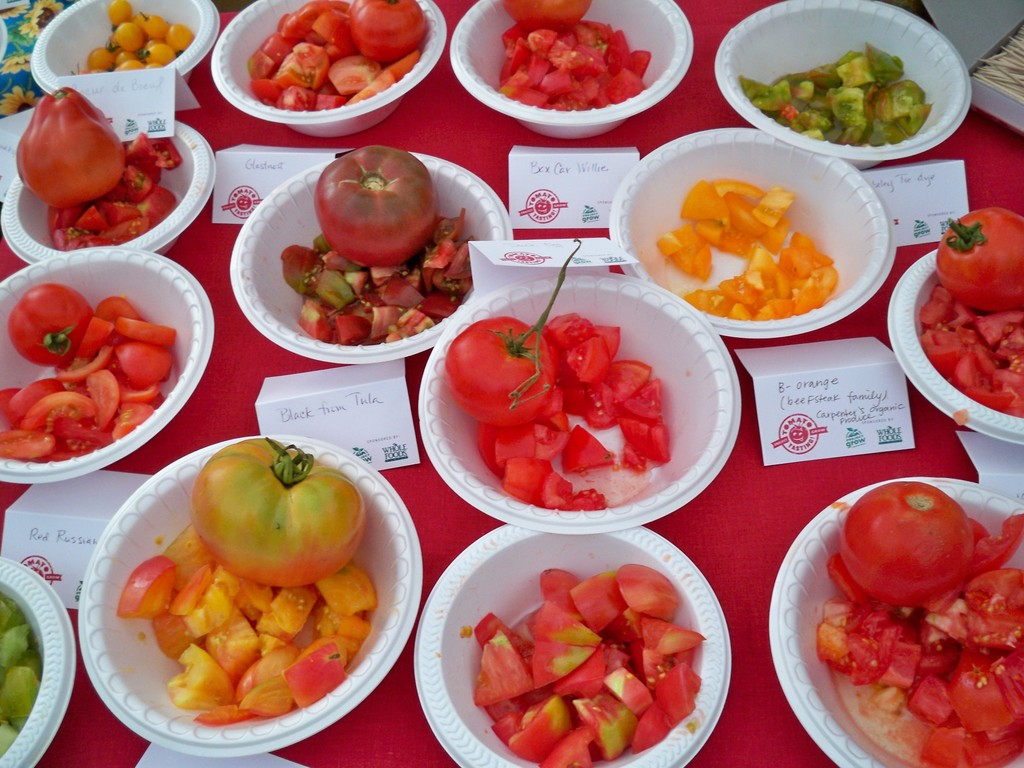Tomato: (117, 436, 373, 718), (819, 512, 1023, 762), (475, 558, 703, 767), (445, 314, 667, 510), (284, 150, 482, 351), (0, 282, 184, 457), (16, 87, 182, 254), (916, 208, 1023, 411), (244, 0, 424, 112), (496, 0, 647, 113)
